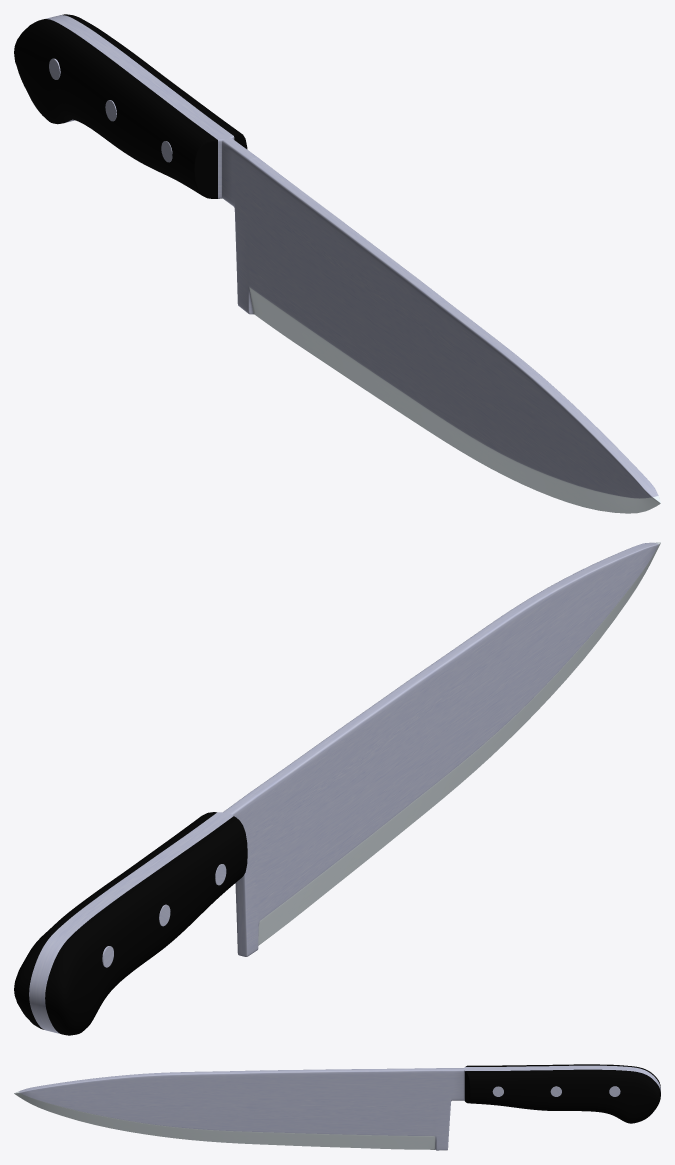
The model's file is knifeTexturePractice.fbx.
3 views of the same model, one above another, from view 1: azimuth 30°, elevation 25°; view 2: azimuth 150°, elevation 25°; view 3: azimuth 270°, elevation 25° (orthographic). The views are drawn at different scales.
Parts seen in each view (by area): view 1: blade_final; view 2: blade_final; view 3: blade_final.
Boxes of the visible parts, box(x1,y1,x2,y2) form: blade_final: box(14, 14, 660, 513); blade_final: box(14, 542, 660, 1035); blade_final: box(14, 1064, 660, 1150).
Size of the model in its own units: 2.16 by 5.95 by 42.47.
